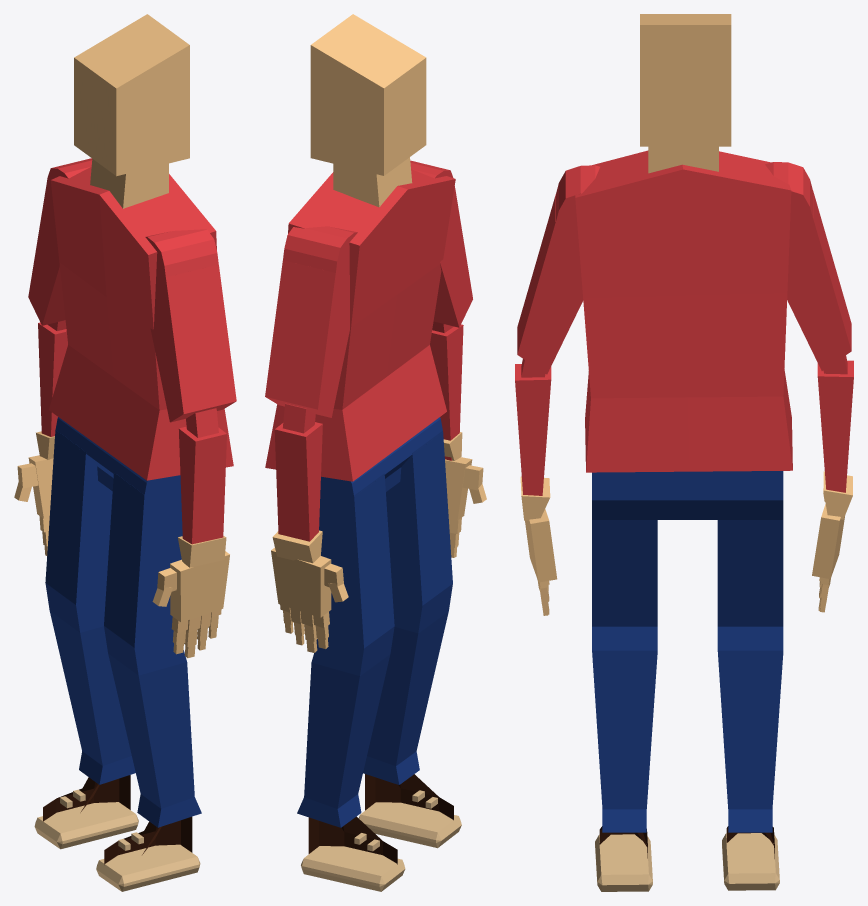
Rendered from Character.fbx.
3 views of the same model, side by side, from view 1: azimuth 30°, elevation 25°; view 2: azimuth 150°, elevation 25°; view 3: azimuth 270°, elevation 25° (orthographic). The views are drawn at different scales.
Visible parts, largest first — view 1: Cube.002; view 2: Cube.002; view 3: Cube.002.
Part boxes in pixels (x1,y1,x2,y2): Cube.002: [14, 14, 236, 891]; Cube.002: [265, 14, 486, 891]; Cube.002: [515, 14, 853, 891].
Bounding box in the file's own units: 317 × 2184 × 769.
